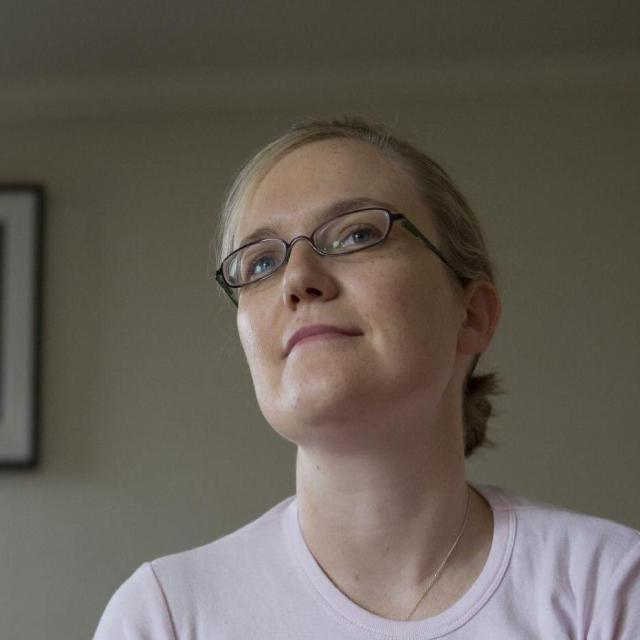no-glass: (236, 220, 381, 291)
